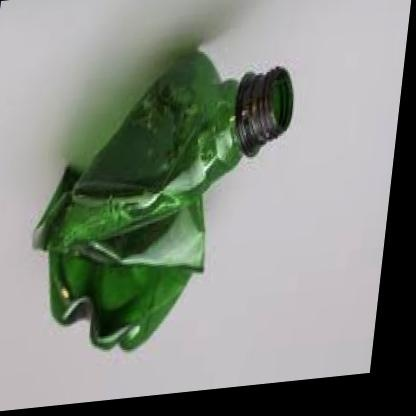trash: (33, 51, 292, 349)
